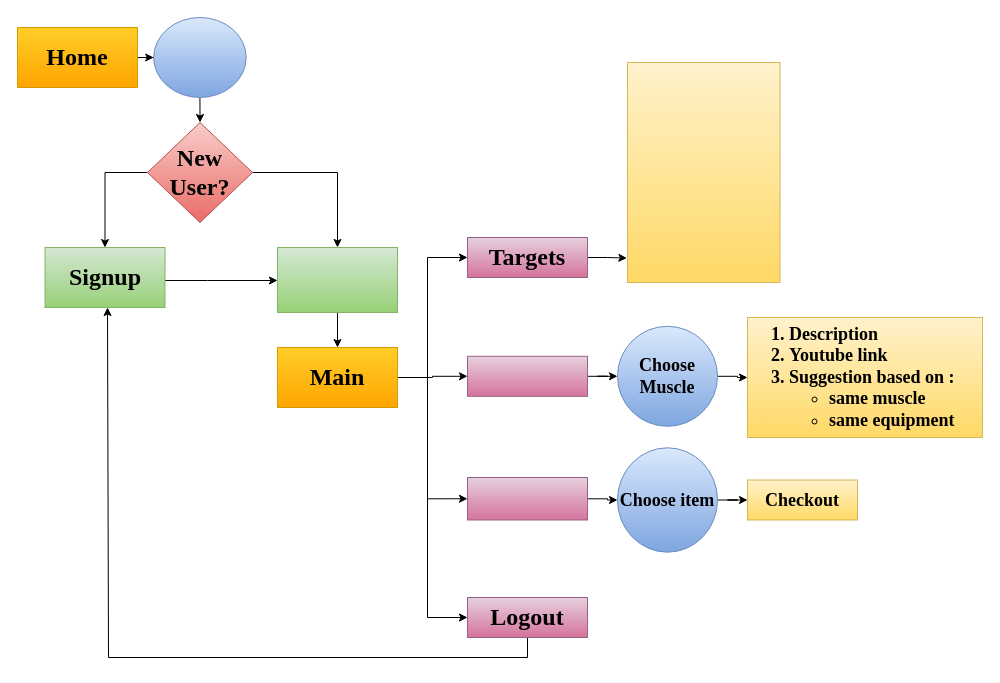
Some shapes in this 1000 by 683 pixel diagram are drawn without their labels. Each missing label, with the centre of its shape:
"Enter your targets: Calories Sleep Step Water intake Weight Workout" goes at point 703,172.
"Exercises" goes at point 527,375.
"Go to Cart" goes at point 527,498.
"Login" goes at point 337,279.
"Register" goes at point 199,57.
